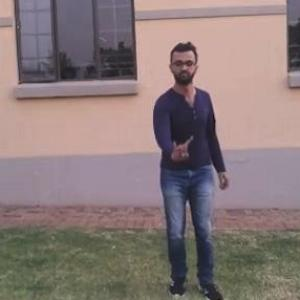takeoff-hand: (166, 128, 196, 166)
